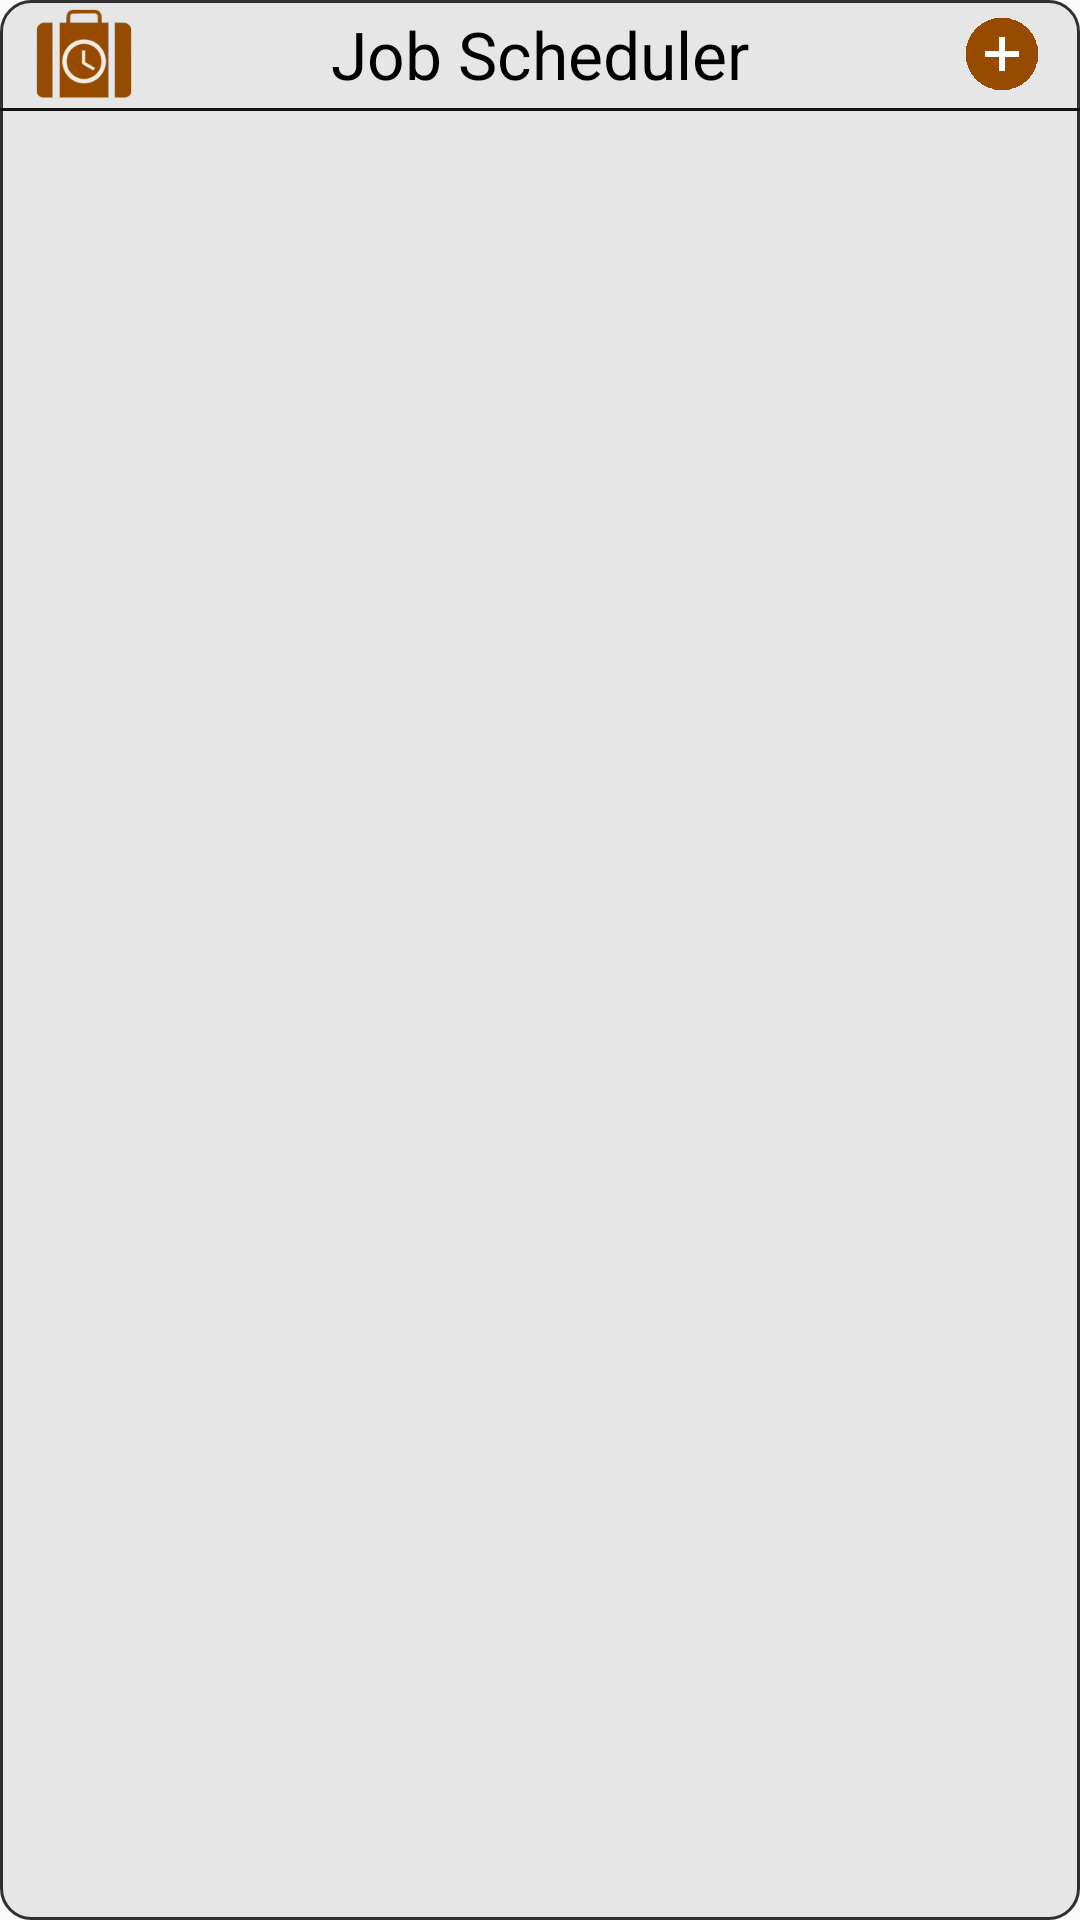

Icons on this 1080×1920 Android screen, each with its box as (x1, y1, x2, y2):
Add job: (966, 18, 1038, 90)
